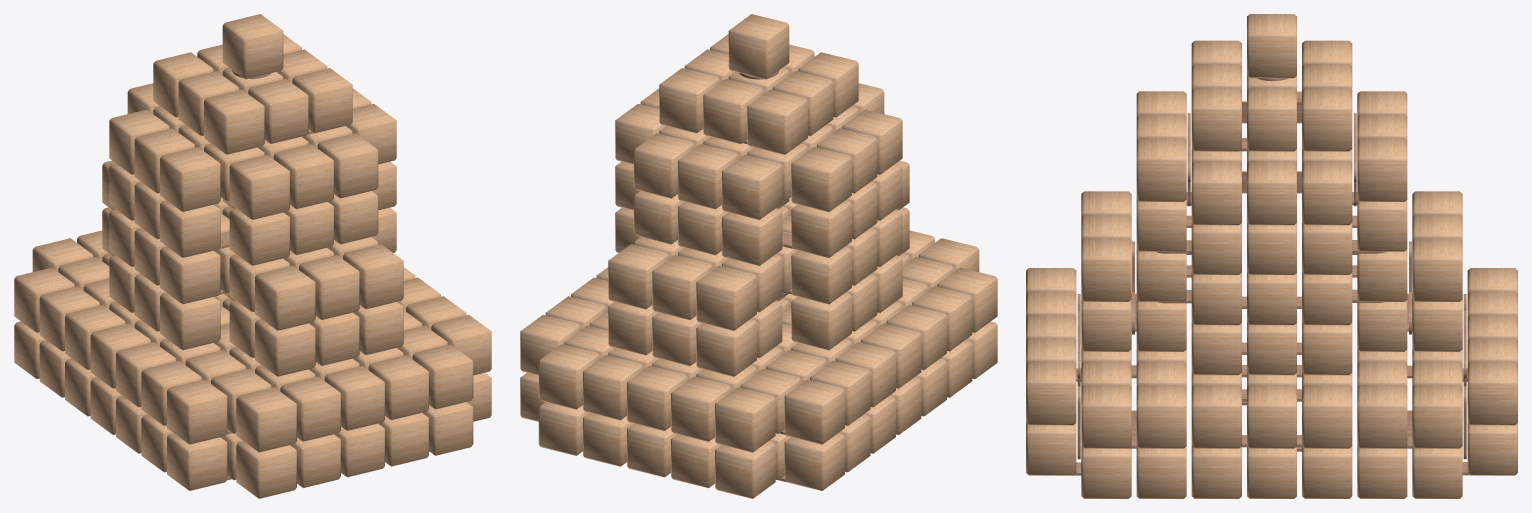
Rendered from level_100.fbx.
3 views of the same model, side by side, from view 1: azimuth 30°, elevation 25°; view 2: azimuth 150°, elevation 25°; view 3: azimuth 270°, elevation 25° (orthographic). The views are drawn at different scales.
Visible parts, largest first — view 1: Cube.192, Cube.008, Cube.164, Cube.239, Cube.128, Cube.001, Cube.243, Cube.051, Cube.057, Cube.173, Cube.138, Cube.208 (+65 smaller); view 2: Cube.192, Cube.099, Cube.194, Cube.259, Cube.158, Cube.115, Cube.253, Cube.122, Cube.106, Cube.183, Cube.148, Cube.218 (+66 smaller); view 3: Cube.241, Cube.261, Cube.005, Cube.028, Cube.042, Cube.119, Cube.247, Cube.257, Cube.133, Cube.163, Cube.021, Cube.049 (+58 smaller).
Part boxes in pixels (x1,y1,x2,y2): Cube.192: [222, 14, 283, 79]; Cube.008: [167, 379, 227, 444]; Cube.164: [255, 265, 315, 330]; Cube.239: [229, 154, 289, 219]; Cube.128: [204, 89, 264, 154]; Cube.001: [236, 387, 296, 452]; Cube.243: [160, 147, 220, 211]; Cube.051: [236, 441, 296, 498]; Cube.057: [167, 433, 227, 490]; Cube.173: [160, 246, 220, 304]; Cube.138: [160, 292, 220, 350]; Cube.208: [160, 200, 220, 257]; Cube.192: [728, 14, 789, 79]; Cube.099: [784, 379, 844, 444]; Cube.194: [696, 265, 756, 330]; Cube.259: [722, 154, 782, 219]; Cube.158: [747, 89, 807, 154]; Cube.115: [715, 387, 775, 452]; Cube.253: [791, 147, 851, 211]; Cube.122: [715, 441, 775, 498]; Cube.106: [784, 433, 844, 490]; Cube.183: [791, 246, 851, 304]; Cube.148: [791, 292, 851, 350]; Cube.218: [791, 200, 851, 257]; Cube.241: [1136, 137, 1186, 201]; Cube.261: [1357, 137, 1407, 201]; Cube.005: [1026, 361, 1076, 425]; Cube.028: [1191, 384, 1241, 448]; Cube.042: [1302, 384, 1352, 448]; Cube.119: [1467, 361, 1517, 425]; Cube.247: [1191, 161, 1241, 225]; Cube.257: [1302, 161, 1352, 225]; Cube.133: [1191, 87, 1241, 151]; Cube.163: [1302, 87, 1352, 151]; Cube.021: [1136, 384, 1186, 448]; Cube.049: [1357, 384, 1407, 448].
Bounding box in the file's own units: 15.2 × 17.58 × 19.6.
